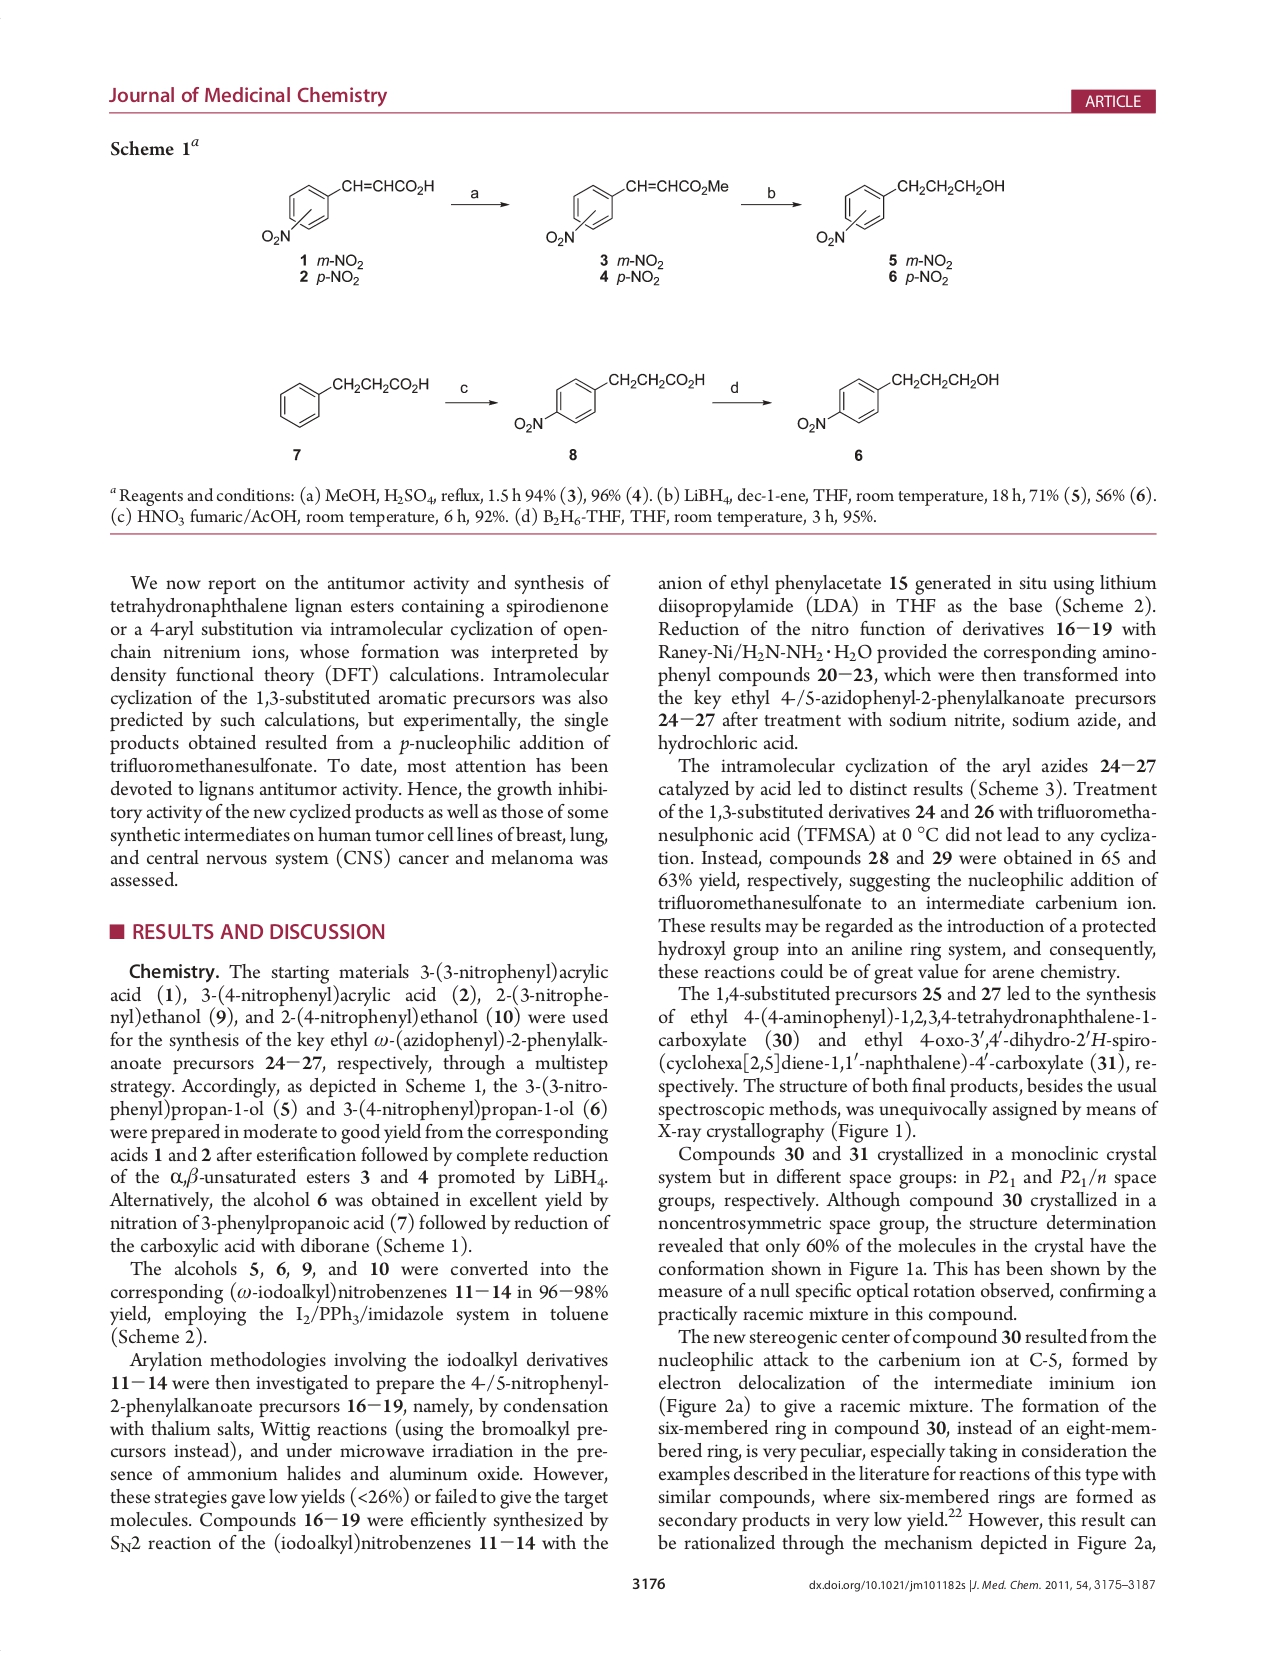exist_molecular: (543, 169, 737, 250), (790, 367, 1001, 439), (511, 368, 707, 440), (814, 176, 1007, 249), (255, 170, 440, 245), (274, 371, 432, 428)
